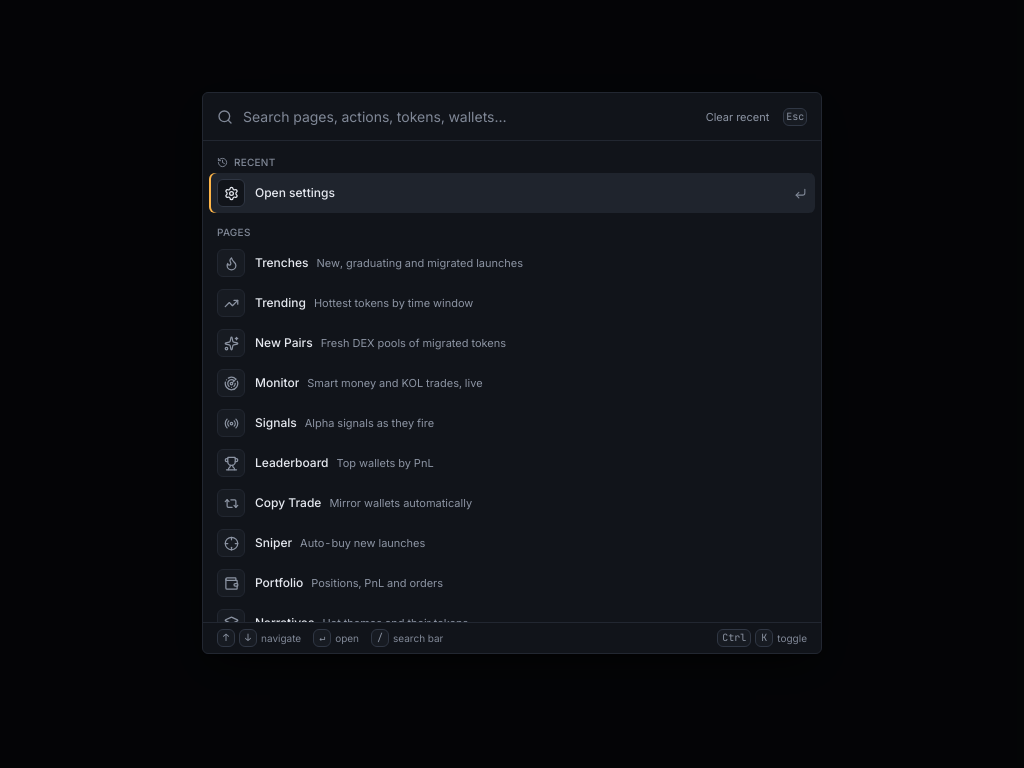
Test case: command palette listbox › holds only groups of options (the Clear recent button lives outside it)
Expected: the element "Recent" is shown, [209,147,815,213]
Click the button "Clear recent": point(737, 117) [702,109,773,125]
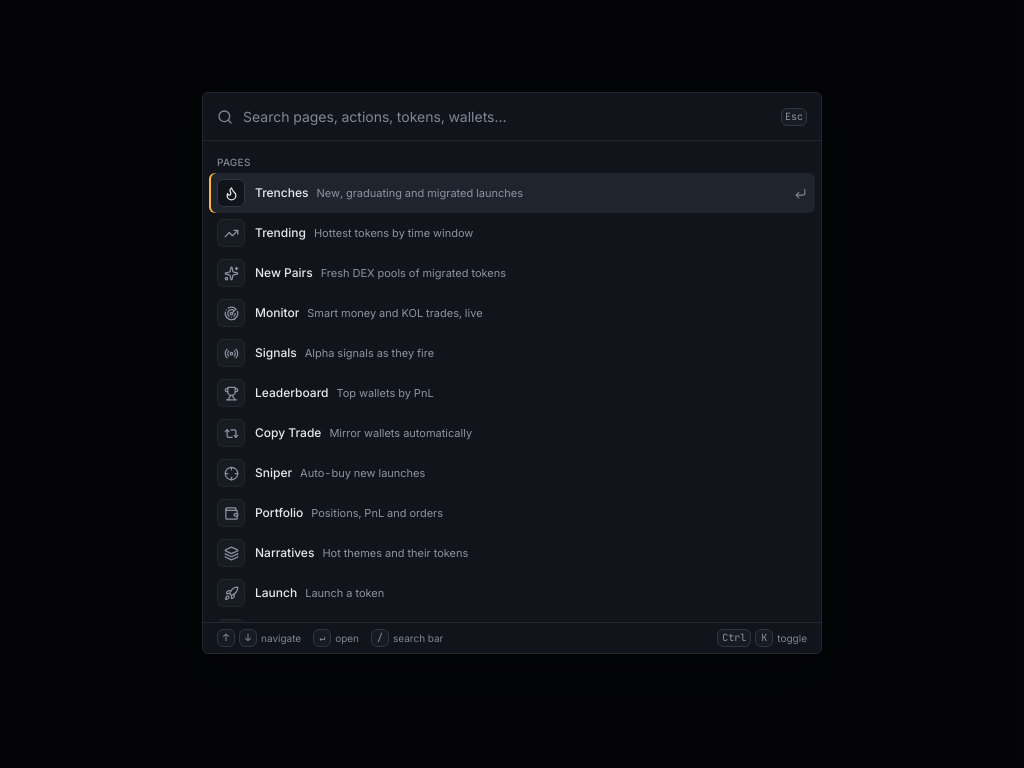
Expected: the button "recent" is gone
